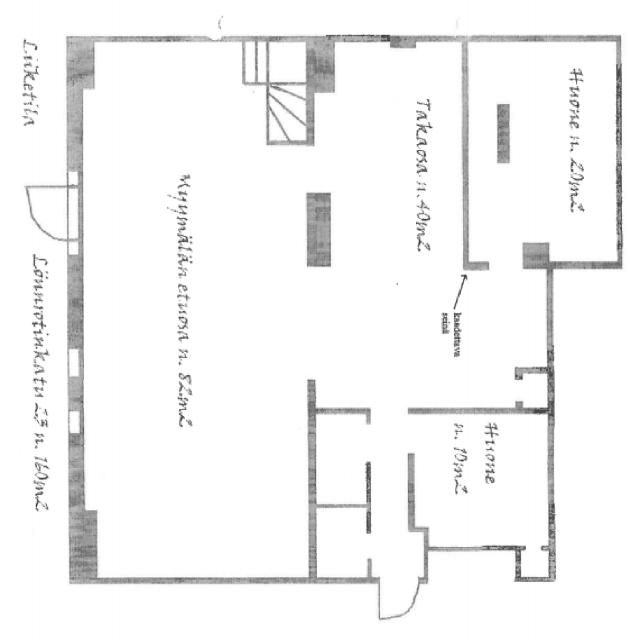door: (18, 170, 82, 246), (376, 573, 434, 630)
window: (59, 340, 92, 445)
zone: (75, 50, 317, 590), (314, 39, 456, 418), (457, 34, 624, 270), (414, 416, 553, 547), (314, 403, 371, 513), (314, 500, 374, 580)
